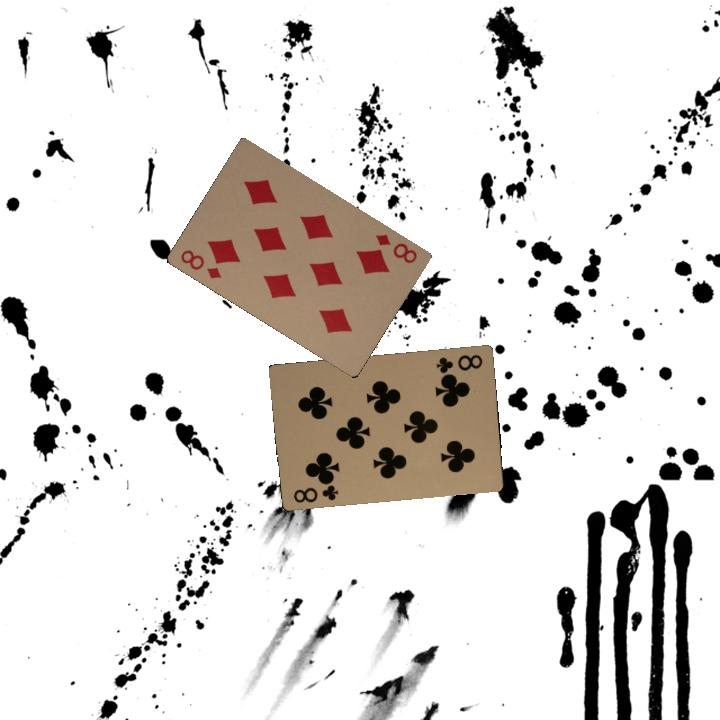8c: (290, 476, 341, 506), (432, 350, 485, 377)
8d: (175, 245, 224, 281), (371, 230, 420, 266)
